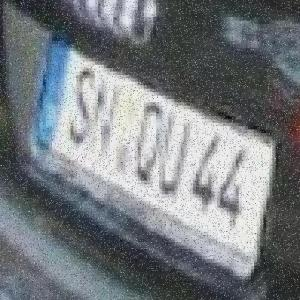Plate: (34, 31, 282, 286)
